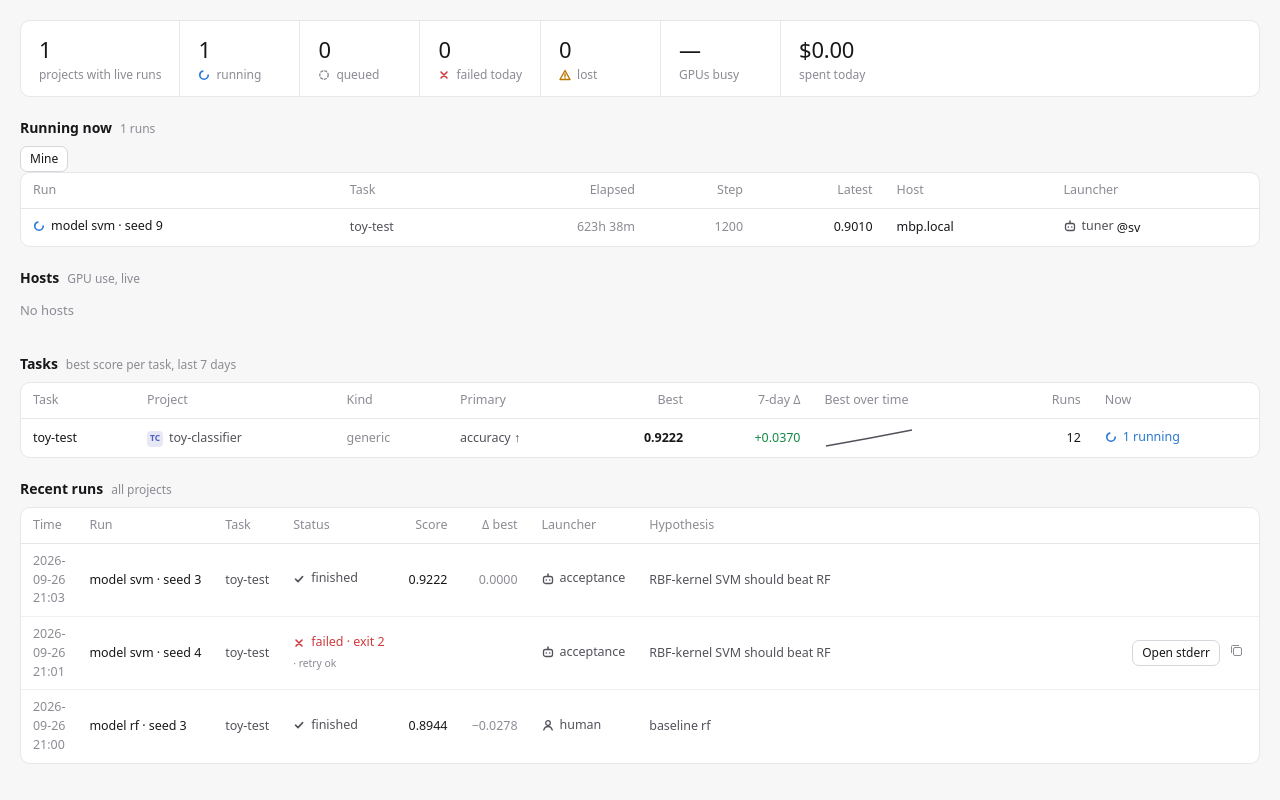
Scenario: Mine filters only Running now and sends the exact owner/status read
Click the button "Mine" at point(44, 159), box [20,146,68,172]
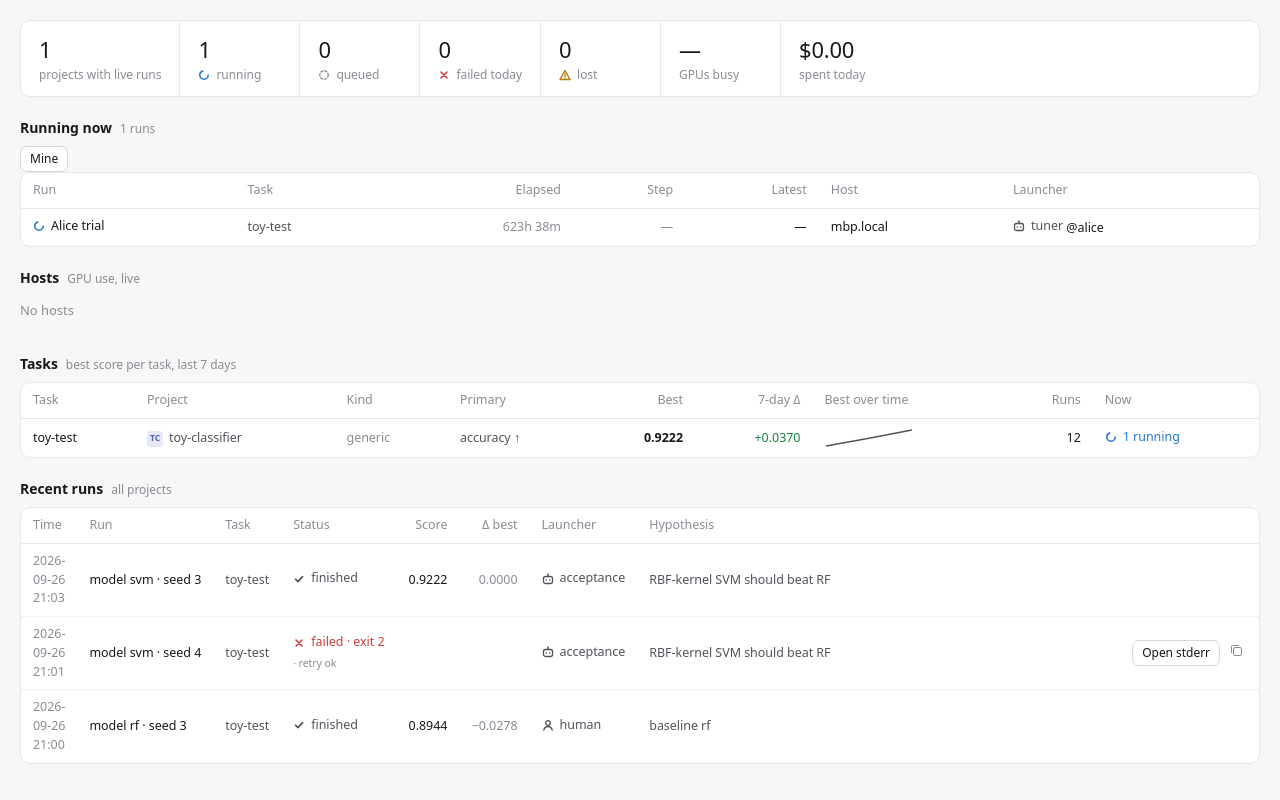
Expected: the element "Recent runs" is shown, [20,478,1260,764]
Result: the text "@alice" is shown at [1063,219,1104,236]
Result: the text "@sv" is gone
